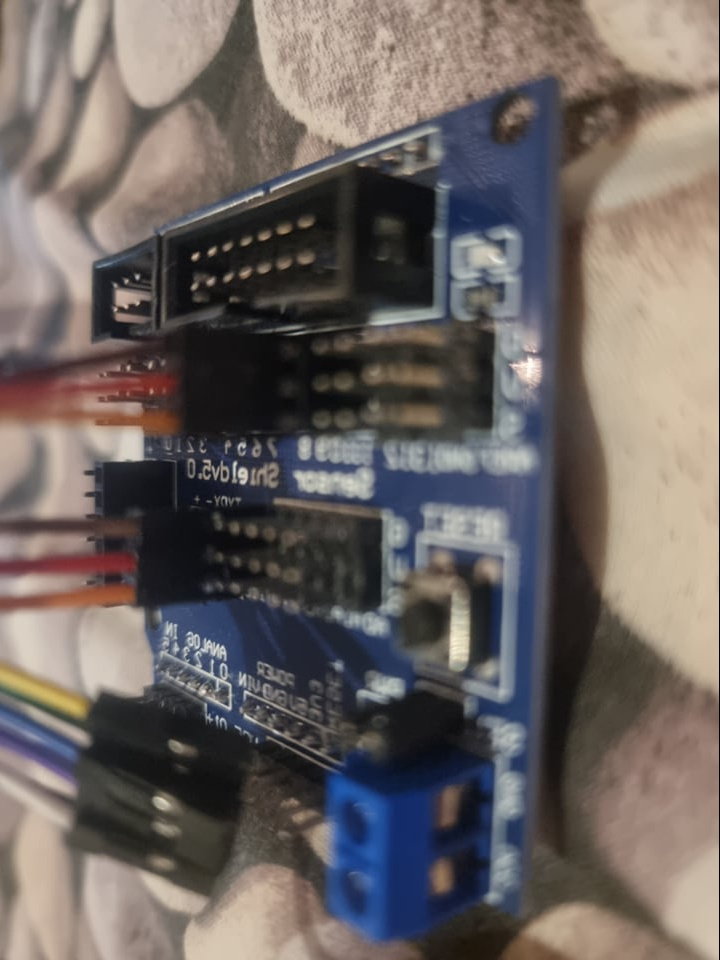5V EXPANSION: (38, 76, 553, 948)
